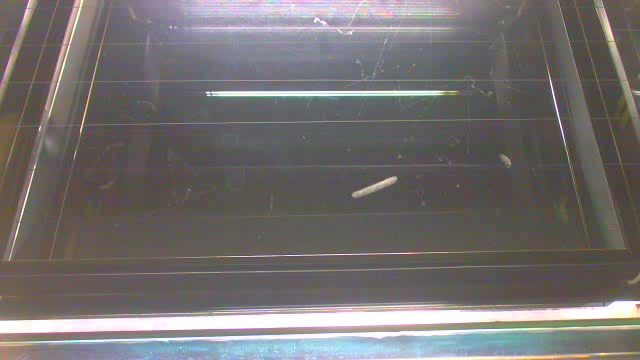Alfa: (349, 174, 399, 200), (499, 153, 514, 171)
